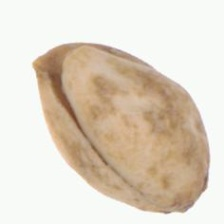L1: (31, 42, 84, 105), (177, 174, 208, 214)
L2: (31, 41, 210, 214)
